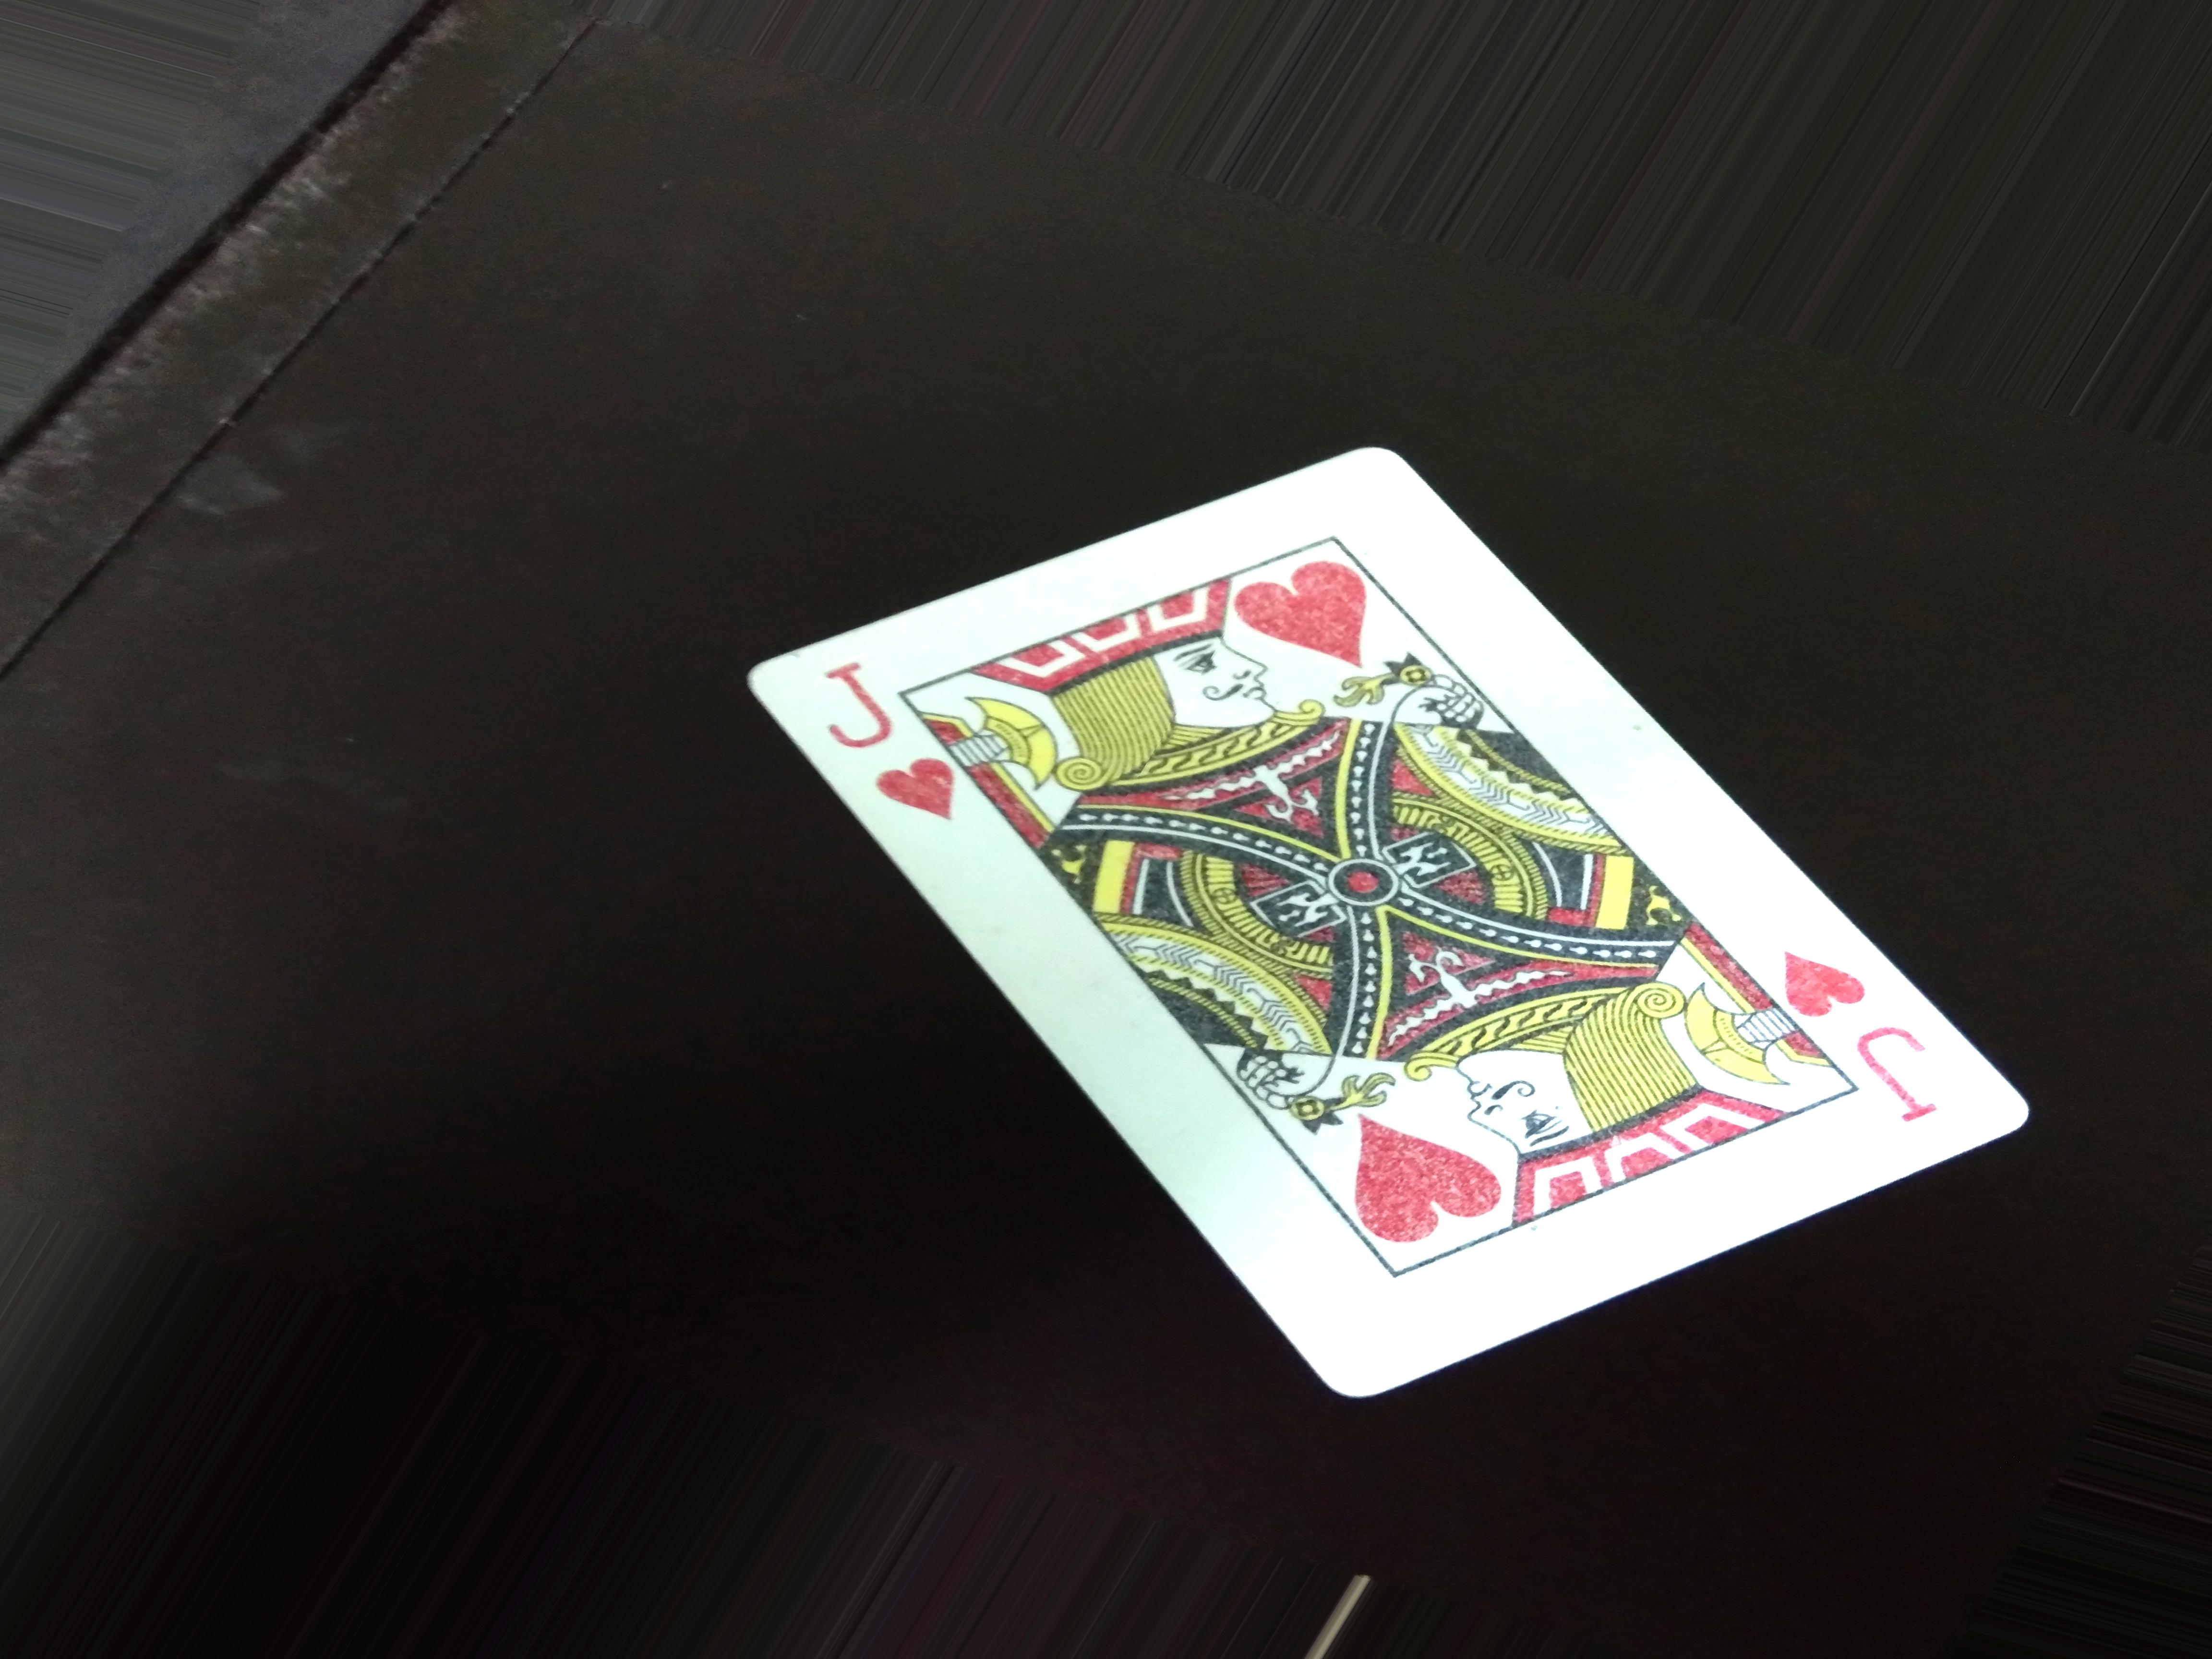JH: (829, 650, 946, 854)
